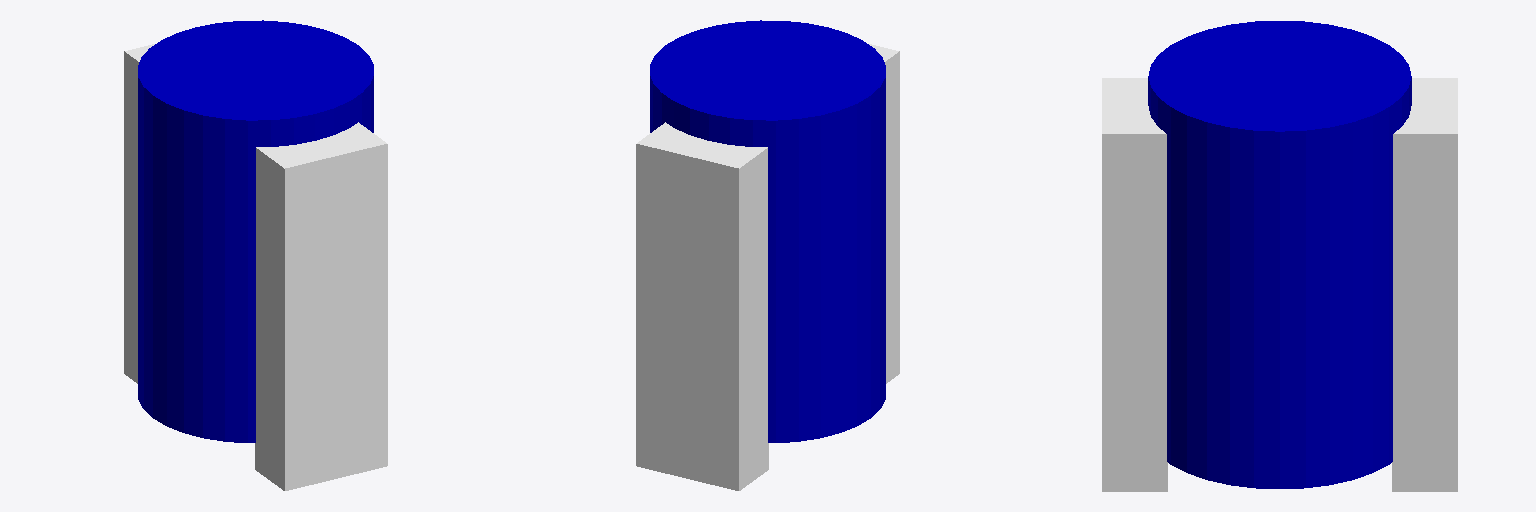
URDF robot description (materials):
<?xml version="1.0"?>
<robot name="materials">

  <material name="blue">
    <color rgba="0 0 0.8 1"/>
  </material>

  <material name="white">
    <color rgba="1 1 1 1"/>
  </material>


  <link name="base_link">
    <visual>
      <geometry>
        <cylinder length="0.6" radius="0.2"/>
      </geometry>
      <material name="blue"/>
    </visual>
  </link>

  <link name="right_leg">
    <visual>
      <geometry>
        <box size="0.6 0.1 0.2"/>
      </geometry>
      <origin rpy="0 1.57075 0" xyz="0 0 -0.3"/>
      <material name="white"/>
    </visual>
  </link>

  <joint name="base_to_right_leg" type="fixed">
    <parent link="base_link"/>
    <child link="right_leg"/>
    <origin xyz="0 -0.22 0.25"/>
  </joint>

  <link name="left_leg">
    <visual>
      <geometry>
        <box size="0.6 0.1 0.2"/>
      </geometry>
      <origin rpy="0 1.57075 0" xyz="0 0 -0.3"/>
      <material name="white"/>
    </visual>
  </link>

  <joint name="base_to_left_leg" type="fixed">
    <parent link="base_link"/>
    <child link="left_leg"/>
    <origin xyz="0 0.22 0.25"/>
  </joint>

</robot>

--- Render facts (derived) ---
3 views of the same robot in one strip: view 1: azimuth 30°, elevation 25°; view 2: azimuth 150°, elevation 25°; view 3: azimuth 270°, elevation 25° (orthographic).
Model materials with 3 links and 2 joints (2 fixed), rooted at base_link, posed all joints at 0.
Visible links, largest first — view 1: base_link, right_leg, left_leg; view 2: base_link, left_leg, right_leg; view 3: base_link, right_leg, left_leg.
Boxes of the visible links, x1=… form: base_link: x1=138, y1=20, x2=373, y2=442; right_leg: x1=255, y1=122, x2=387, y2=490; left_leg: x1=124, y1=44, x2=154, y2=383; base_link: x1=650, y1=20, x2=885, y2=442; left_leg: x1=636, y1=122, x2=768, y2=490; right_leg: x1=869, y1=44, x2=899, y2=383; base_link: x1=1148, y1=21, x2=1411, y2=488; right_leg: x1=1102, y1=78, x2=1167, y2=491; left_leg: x1=1392, y1=78, x2=1457, y2=491.
Bounding box of the posed robot: 0.4 × 0.54 × 0.65 m (x, y, z).
Geometry: primitives only (box / cylinder / sphere), no mesh files.